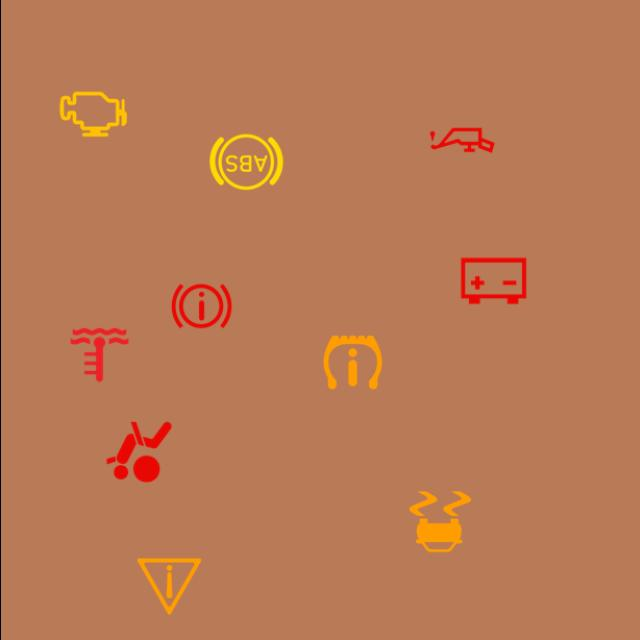Anti Lock Braking System: (206, 122, 286, 202)
Braking System Issue: (160, 266, 240, 346)
Charging System Issue: (452, 241, 532, 321)
Check Engine: (52, 74, 132, 154)
Electronic Stability Problem -ESP-: (400, 481, 480, 562)
Engine Overheating Warning Light: (58, 315, 138, 395)
Low Engine Oil Warning Light: (421, 100, 501, 180)
Low Tire Pressure Warning Light: (312, 322, 392, 402)
Master warning light: (128, 546, 208, 626)
SRS-Airbag: (98, 412, 178, 492)
